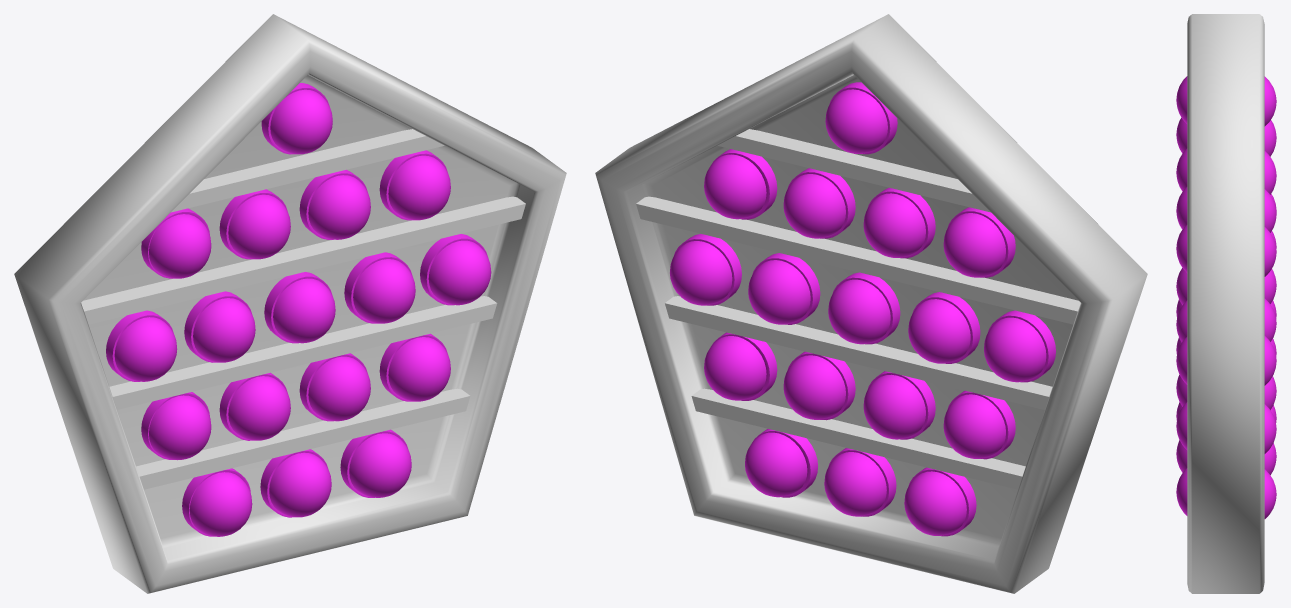
3 views of the same model, side by side, from view 1: azimuth 30°, elevation 25°; view 2: azimuth 150°, elevation 25°; view 3: azimuth 270°, elevation 25° (orthographic). The views are drawn at different scales.
Visible parts, largest first — view 1: Cylinder.001, Cube.029, Cube.030, Cube.031, Cube.028, Sphere.280, Sphere.289, Sphere.293, Sphere.295, Sphere.282, Sphere.283, Sphere.284 (+24 smaller); view 2: Cylinder.001, Cube.029, Cube.030, Cube.031, Cube.028, Sphere.304, Sphere.301, Sphere.300, Sphere.310, Sphere.298, Sphere.303, Sphere.302 (+26 smaller); view 3: Cylinder.001, Sphere.298, Sphere.302, Sphere.307, Sphere.311, Sphere.296, Sphere.299, Sphere.297, Sphere.283, Sphere.301, Sphere.279, Sphere.288 (+13 smaller).
Part boxes in pixels (<box>): Cylinder.001: <box>14,14,566,593</box>; Cube.029: <box>81,196,525,324</box>; Cube.030: <box>109,296,497,409</box>; Cube.031: <box>136,388,470,489</box>; Cube.028: <box>171,129,444,212</box>; Sphere.280: <box>228,194,290,259</box>; Sphere.289: <box>228,376,290,440</box>; Sphere.293: <box>269,452,331,517</box>; Sphere.295: <box>349,433,411,497</box>; Sphere.282: <box>308,175,370,239</box>; Sphere.283: <box>388,155,450,220</box>; Sphere.284: <box>193,298,255,362</box>; Cylinder.001: <box>595,14,1147,593</box>; Cube.029: <box>636,196,1080,324</box>; Cube.030: <box>664,296,1052,409</box>; Cube.031: <box>691,388,1025,489</box>; Cube.028: <box>717,129,990,212</box>; Sphere.304: <box>908,299,970,363</box>; Sphere.301: <box>748,260,810,324</box>; Sphere.300: <box>943,213,1005,277</box>; Sphere.310: <box>824,452,886,516</box>; Sphere.298: <box>704,154,766,219</box>; Sphere.303: <box>828,279,890,344</box>; Sphere.302: <box>670,241,732,305</box>; Cylinder.001: <box>1187,14,1264,593</box>; Sphere.298: <box>1264,227,1276,276</box>; Sphere.302: <box>1264,336,1276,385</box>; Sphere.307: <box>1264,404,1276,453</box>; Sphere.311: <box>1264,469,1276,518</box>; Sphere.296: <box>1264,76,1276,126</box>; Sphere.299: <box>1264,151,1276,194</box>; Sphere.297: <box>1264,189,1276,232</box>; Sphere.283: <box>1176,225,1187,272</box>; Sphere.301: <box>1264,298,1276,341</box>; Sphere.279: <box>1176,76,1187,123</box>; Sphere.288: <box>1176,336,1187,384</box>.
Bounding box in the file's own units: 22.89 × 21.77 × 3.93.
